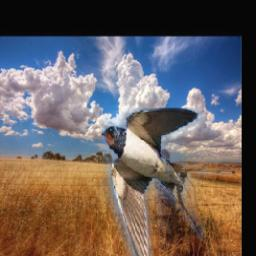Swallow: (101, 109, 234, 256)
